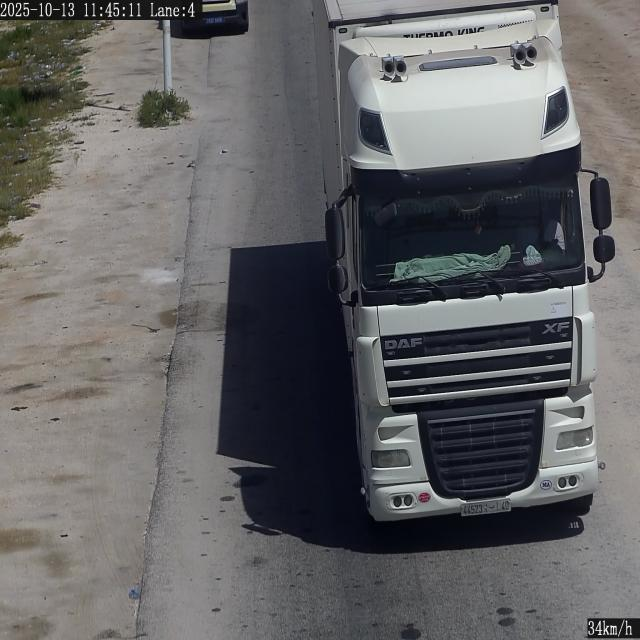BUS: (461, 500, 511, 516), (206, 17, 225, 23)
